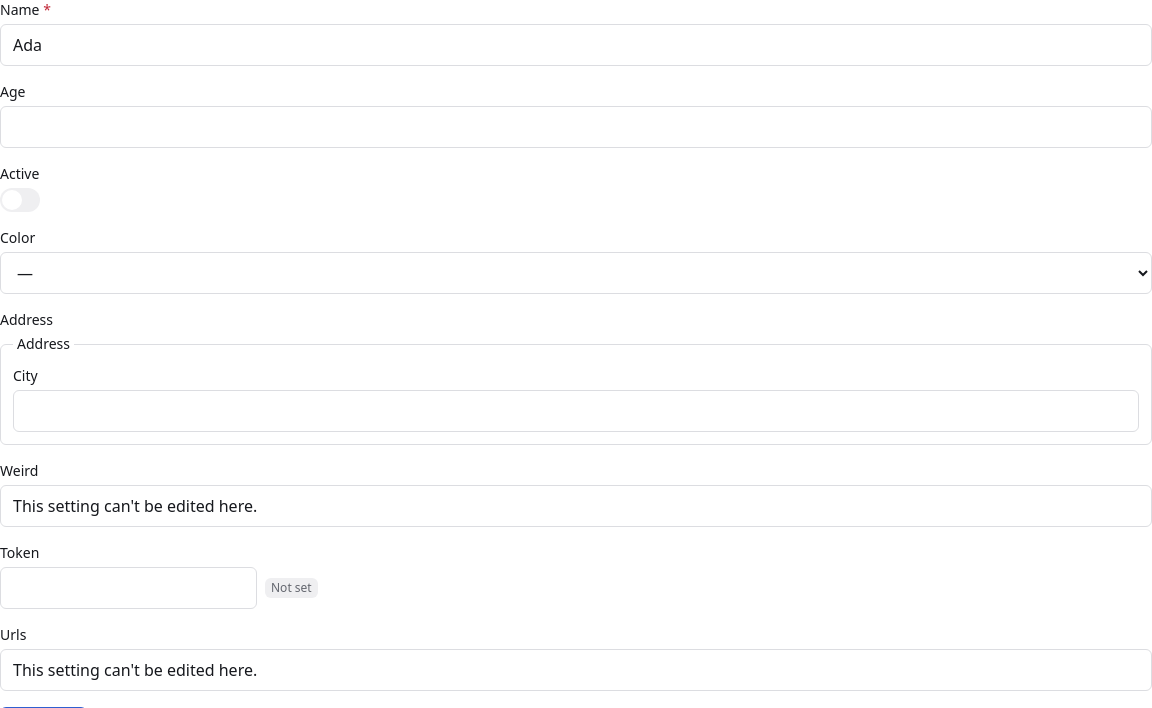
Test: "Stay" closes the unsaved-changes dialog without navigating away
Replace the text in the field labelled "Name *" with "Grace". click: (576, 45)
box: x1=0 y1=24 x2=1151 y2=66
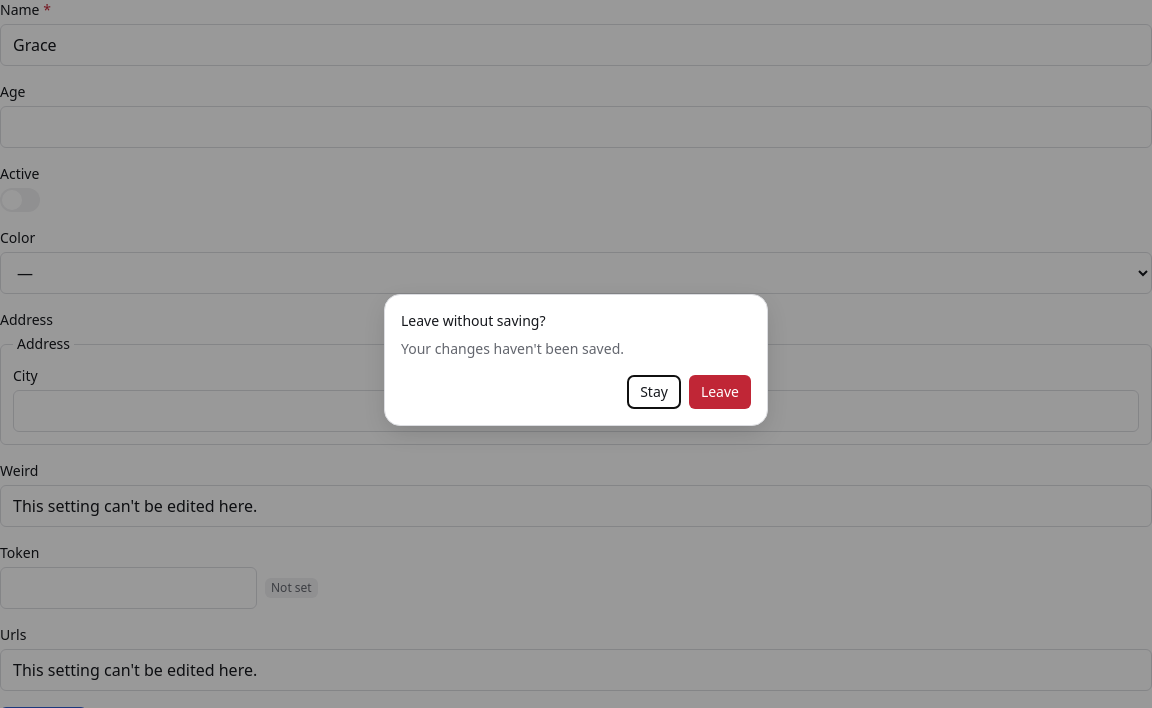
expect the dialog is shown: met, box x1=384 y1=294 x2=768 y2=426
Click the button "Stay". click: click(654, 392)
box: x1=627 y1=375 x2=681 y2=409
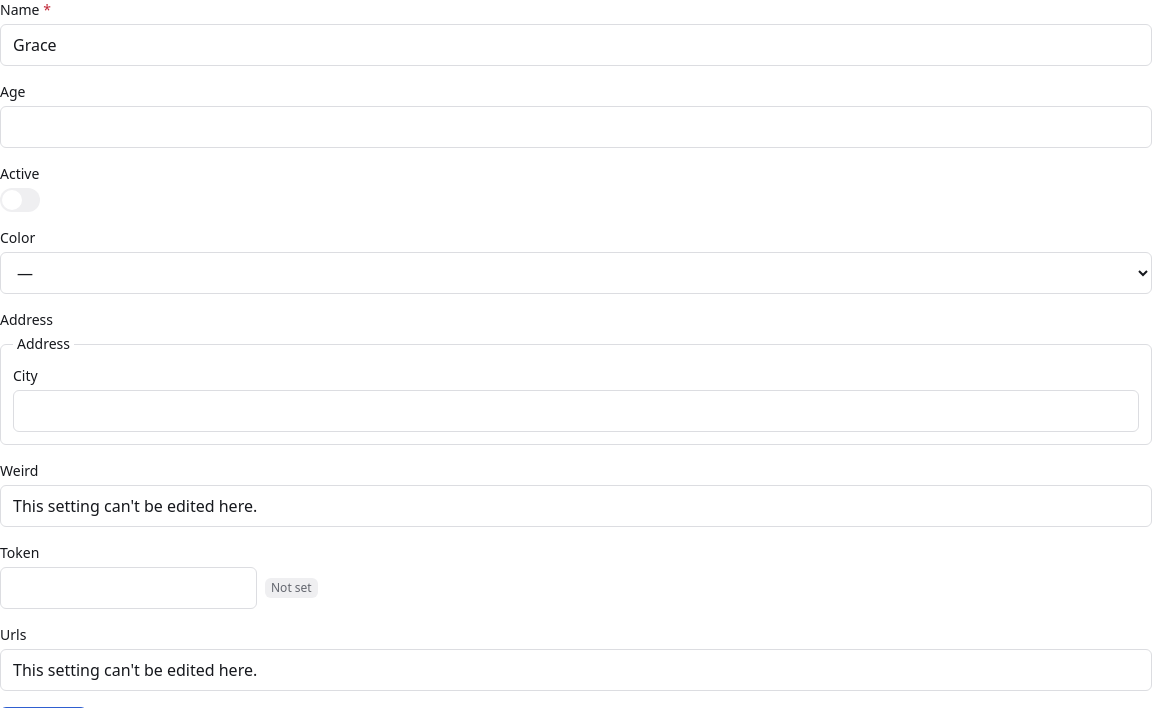
expect the dialog is gone: met
